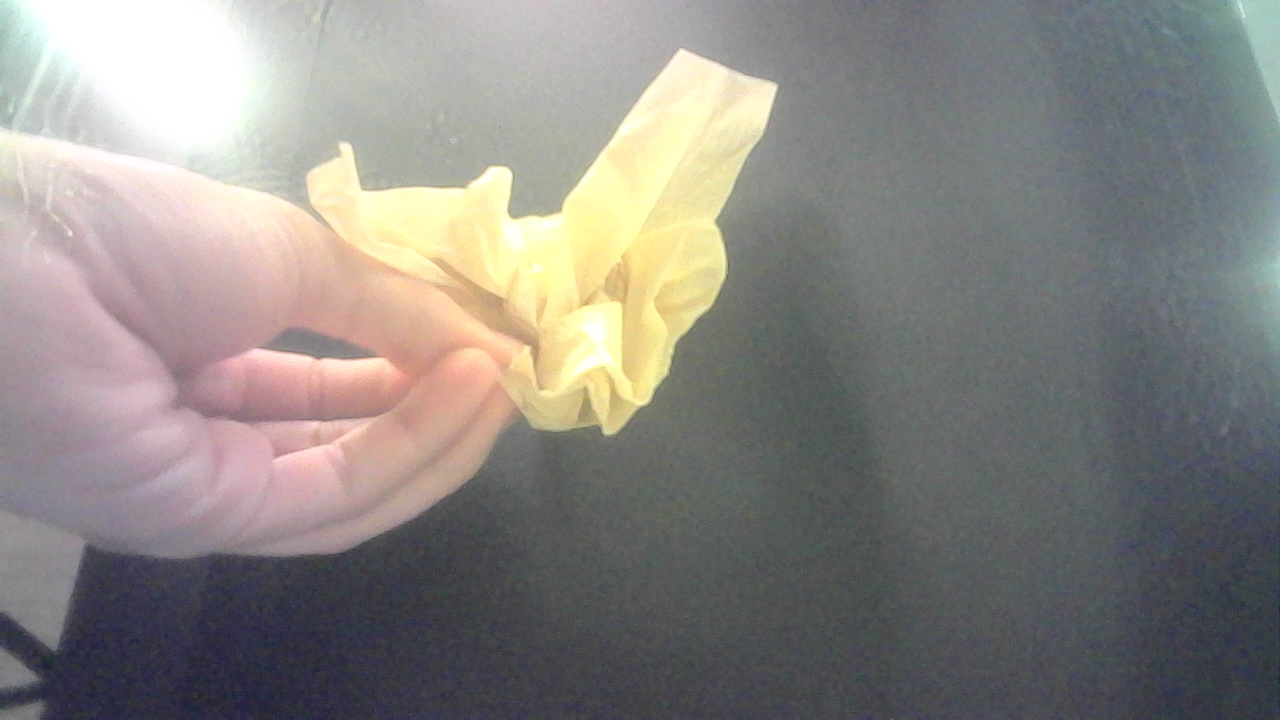Paper_Recycling: (337, 48, 779, 448)
